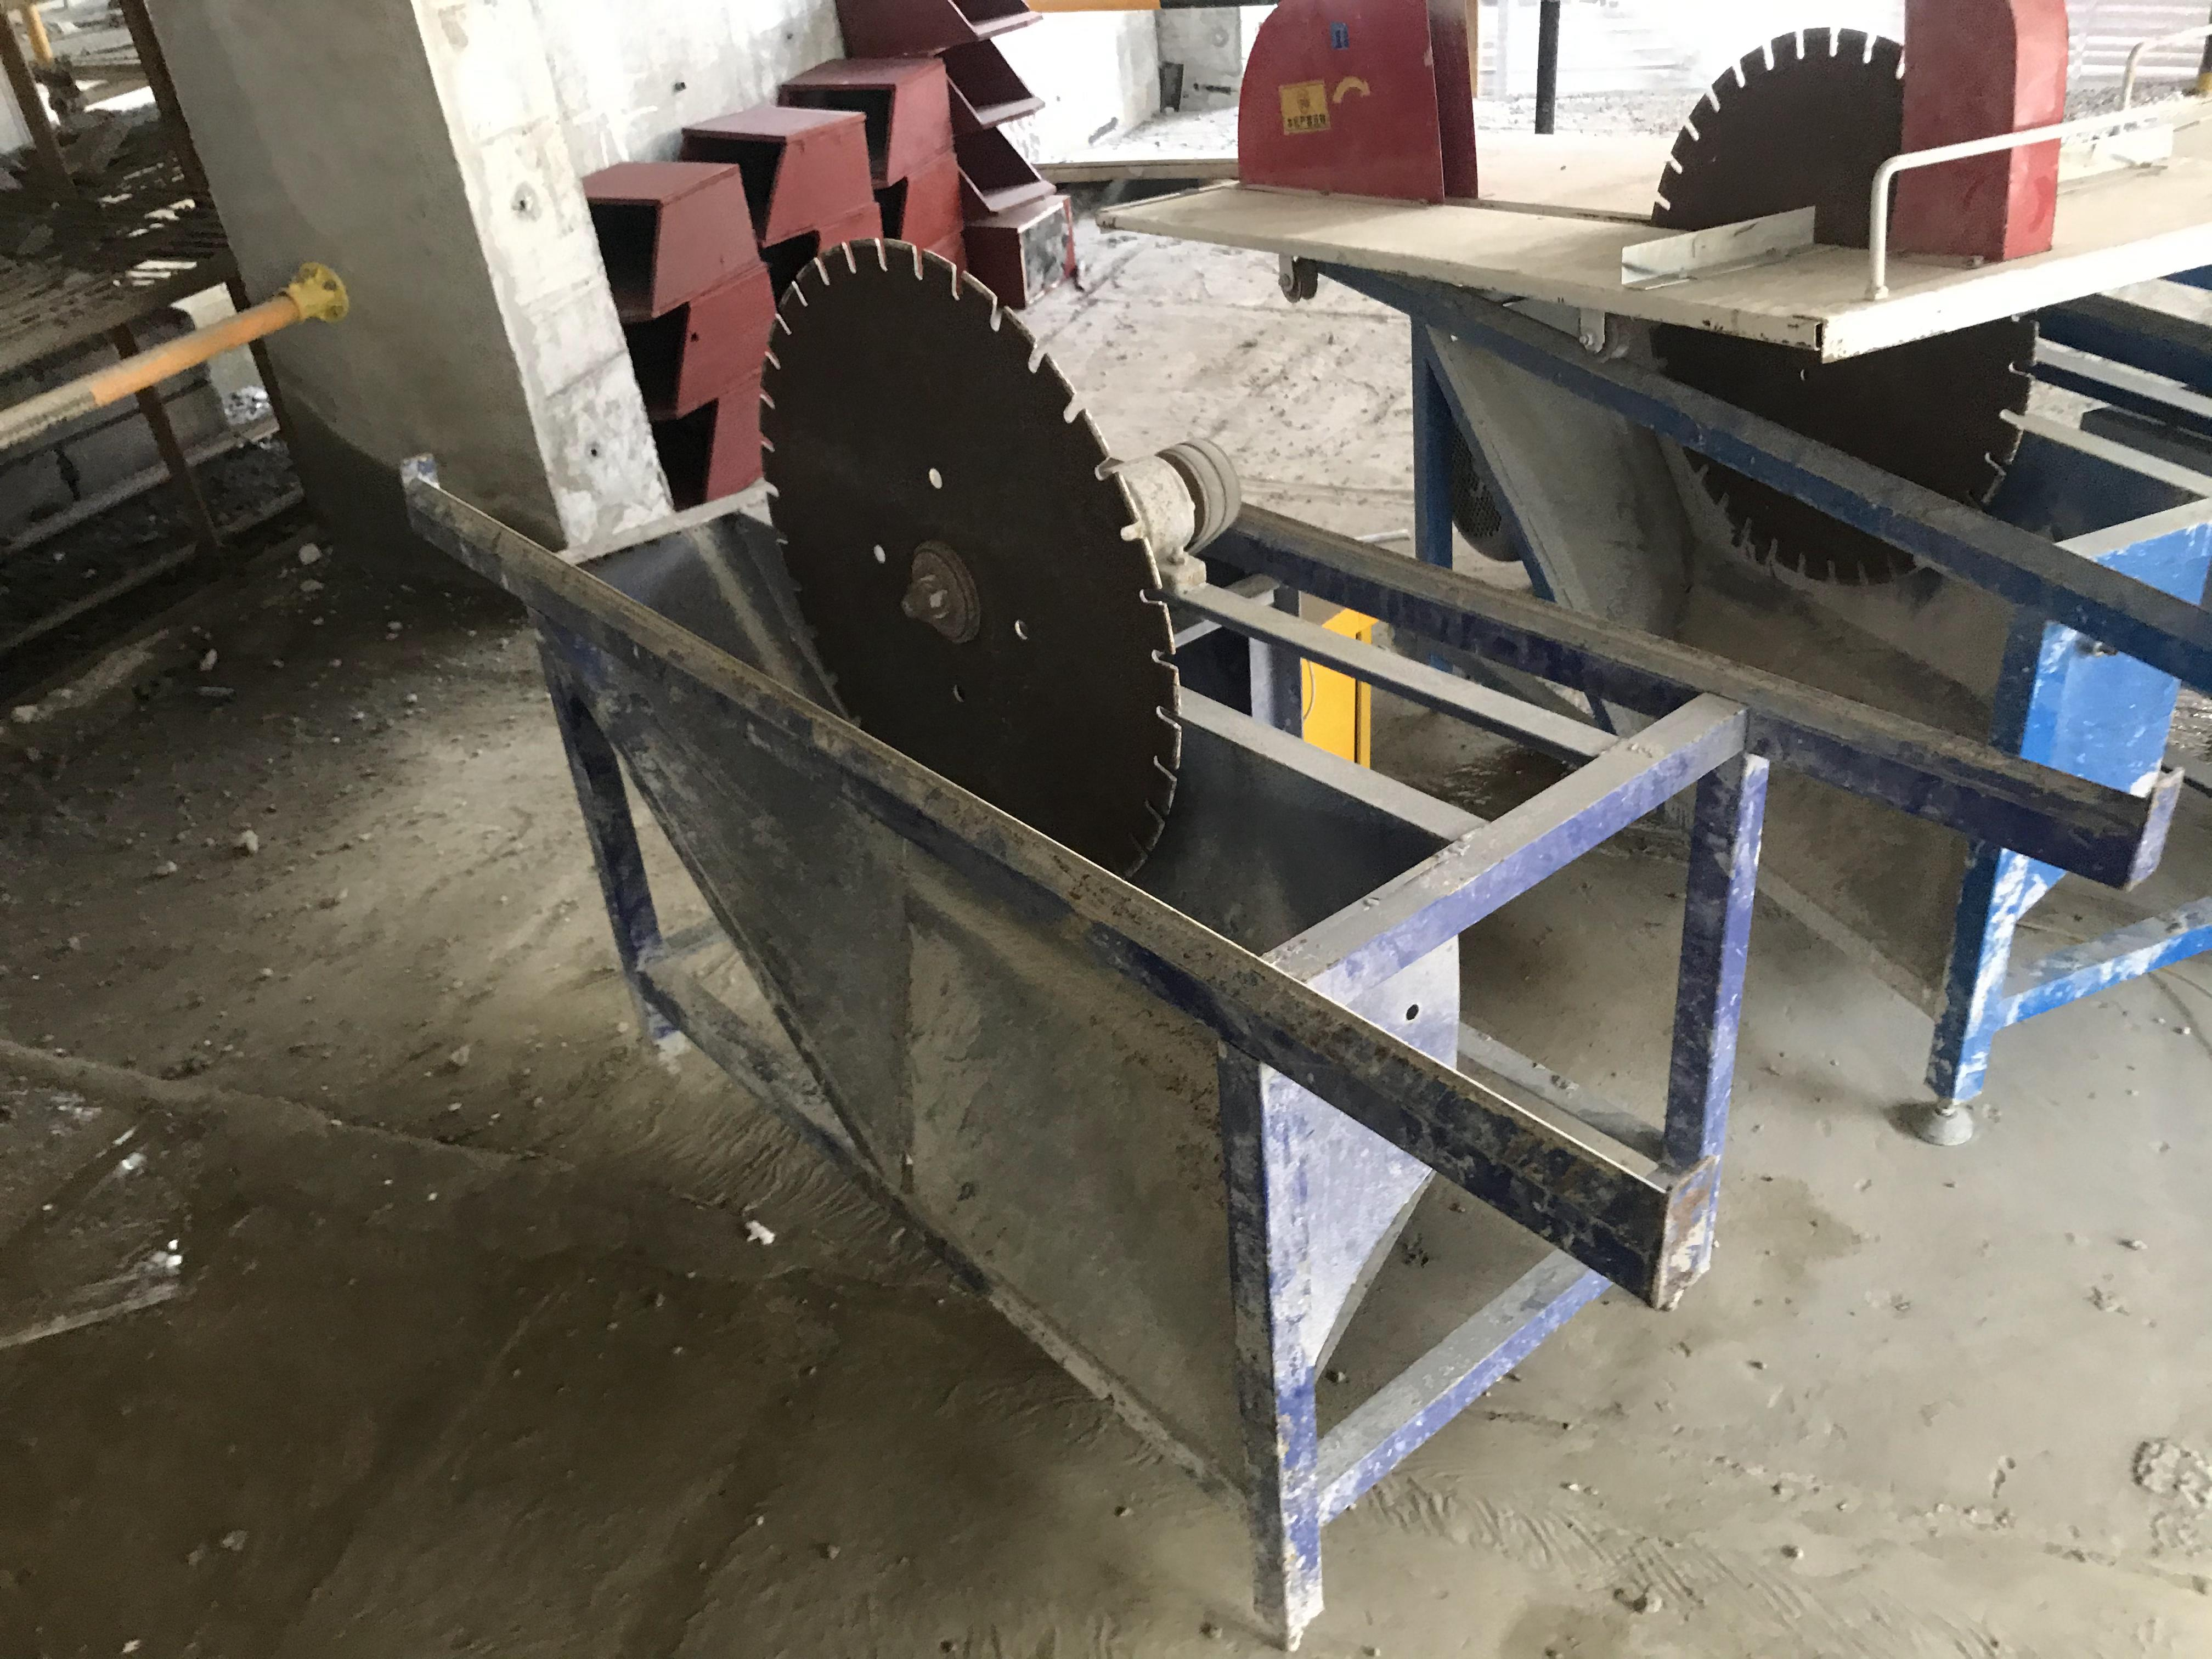cutter: (421, 225, 1796, 1654), (1104, 3, 2212, 1152)
